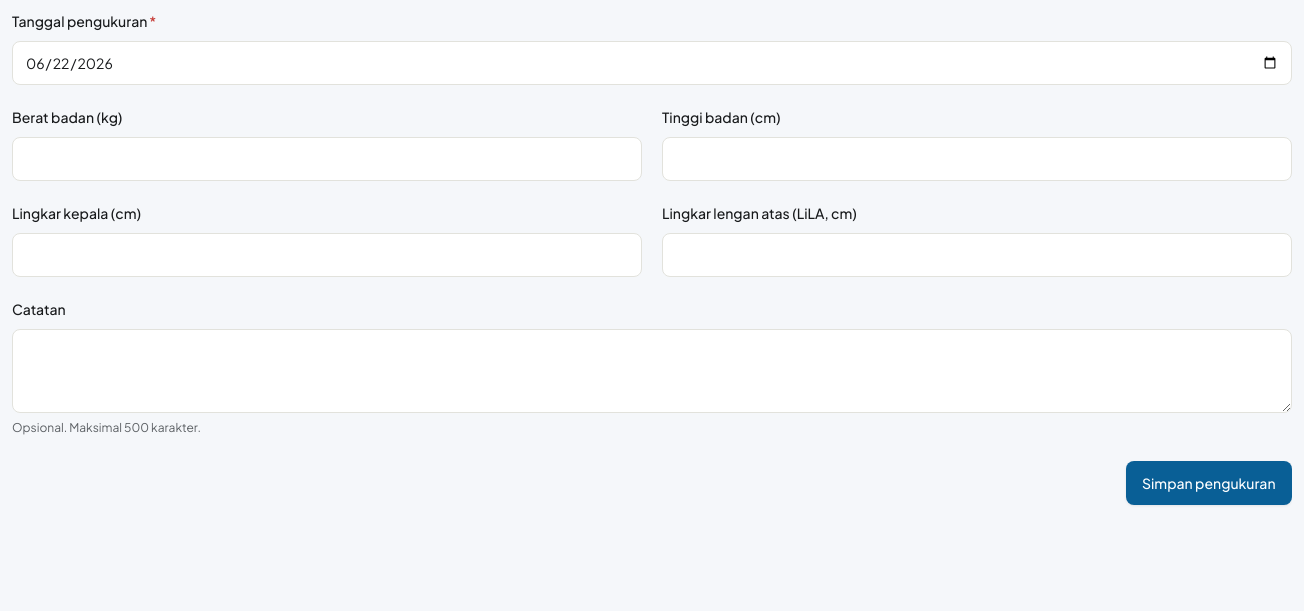
Test: MeasurementForm › renders field-level errors when the action returns them
The image size is (1304, 611).
Type "8.5" into the number field labelled "Berat badan (kg)" at (327, 159), box 12,137 -> 642,181
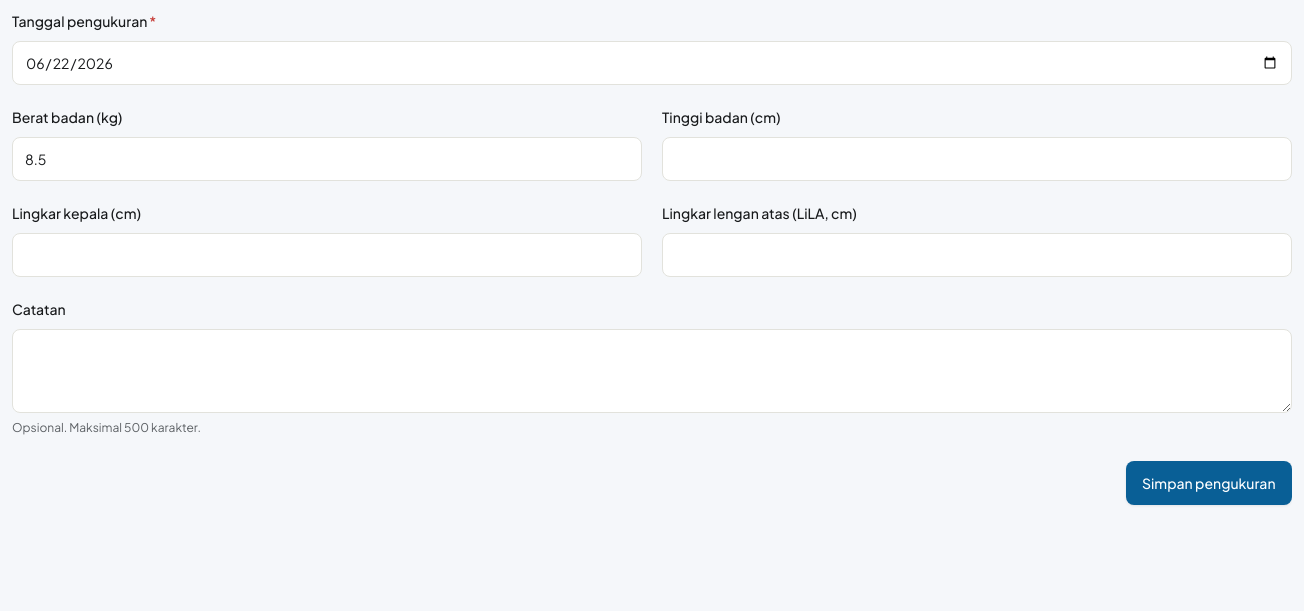
Click the button "Simpan pengukuran" at (1209, 483), box 1126,461 -> 1292,505
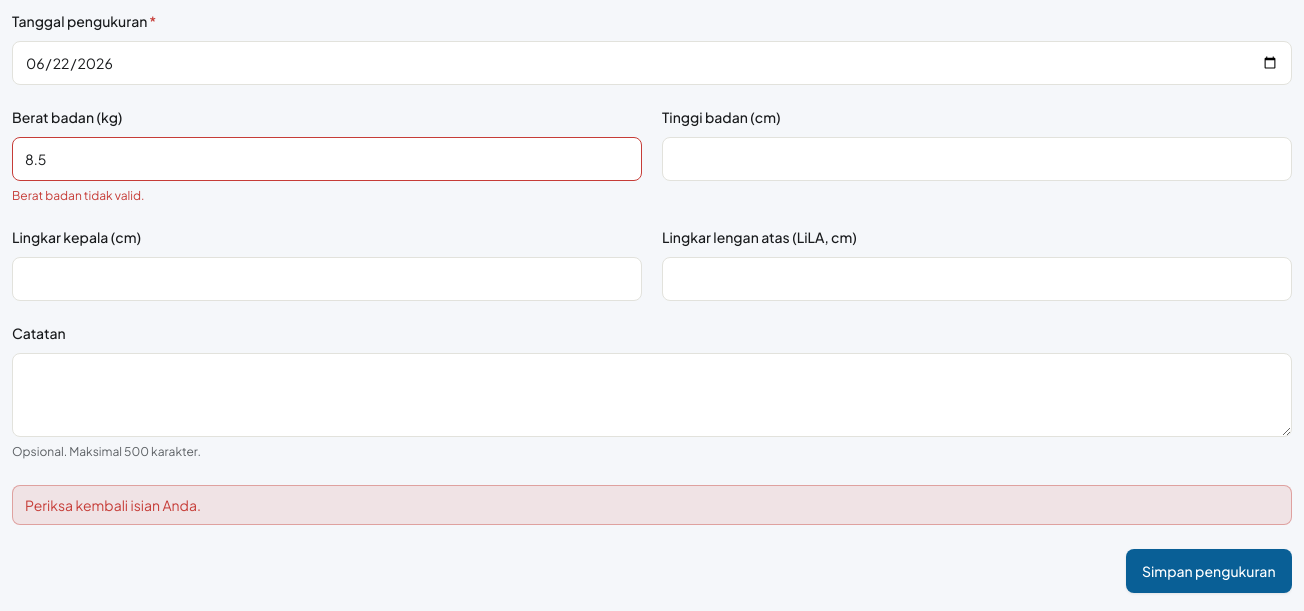
Result: the text "Berat badan tidak valid." is shown at 12,188 -> 144,203
